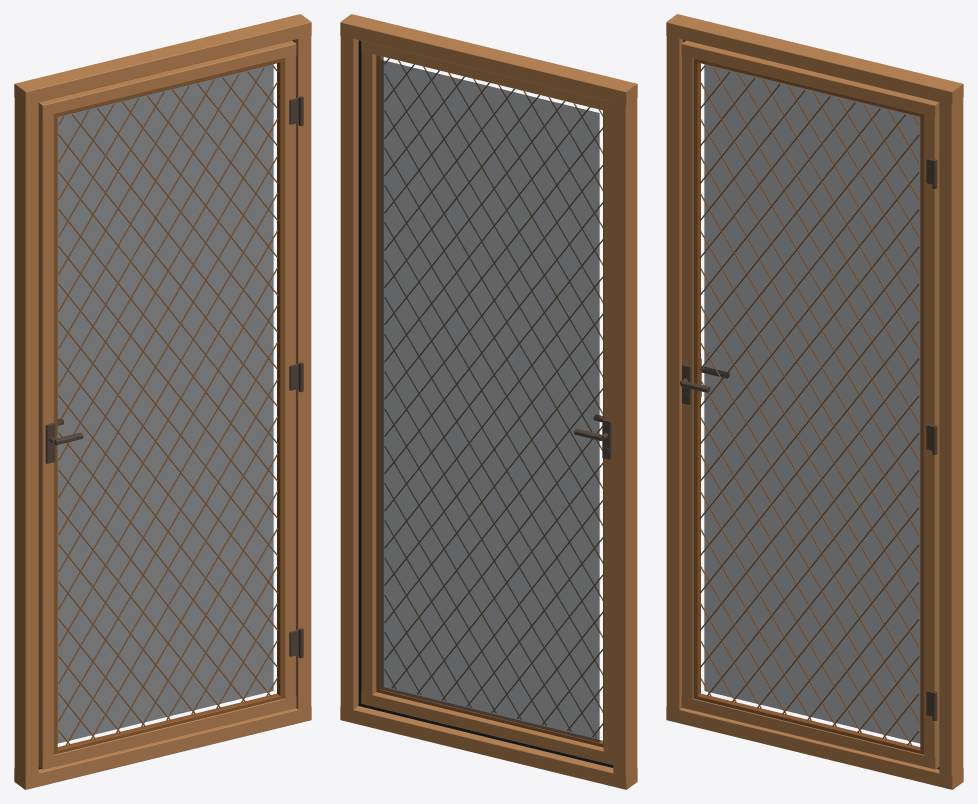
Rendered from wood-finish-hanaloque-screen-door-01.glb.
The picture shows the model from 3 angles, left to right: view 1: azimuth 30°, elevation 25°; view 2: azimuth 150°, elevation 25°; view 3: azimuth 330°, elevation 25°; orthographic projection.
Parts seen in each view (by area): view 1: Full height insect mesh, Outer jamb, Door leaf, Full height security grille, Full height trim, Hinge leaves, Hinge barrels; view 2: Full height insect mesh, Outer jamb, Door leaf, Full height security grille, Full height trim, Weather seal; view 3: Full height insect mesh, Outer jamb, Door leaf, Full height security grille, Full height trim, Hinge leaves, Hinge barrels.
Part boxes in pixels (x1=…): Full height insect mesh: x1=57, y1=64, x2=273, y2=743; Outer jamb: x1=14, y1=14, x2=311, y2=789; Door leaf: x1=38, y1=40, x2=296, y2=769; Full height security grille: x1=58, y1=65, x2=278, y2=745; Full height trim: x1=54, y1=58, x2=284, y2=754; Hinge leaves: x1=289, y1=97, x2=298, y2=656; Hinge barrels: x1=298, y1=96, x2=303, y2=658; Full height insect mesh: x1=380, y1=59, x2=599, y2=742; Outer jamb: x1=340, y1=14, x2=637, y2=789; Door leaf: x1=361, y1=41, x2=613, y2=764; Full height security grille: x1=384, y1=58, x2=602, y2=737; Full height trim: x1=376, y1=55, x2=603, y2=747; Weather seal: x1=358, y1=40, x2=613, y2=767; Full height insect mesh: x1=704, y1=64, x2=920, y2=743; Outer jamb: x1=666, y1=14, x2=963, y2=789; Door leaf: x1=681, y1=40, x2=939, y2=769; Full height security grille: x1=699, y1=65, x2=919, y2=745; Full height trim: x1=693, y1=58, x2=923, y2=754; Hinge leaves: x1=926, y1=158, x2=932, y2=716; Hinge barrels: x1=932, y1=159, x2=937, y2=720.
Bounding box in the file's own units: 0.9 × 2.1 × 0.123.
